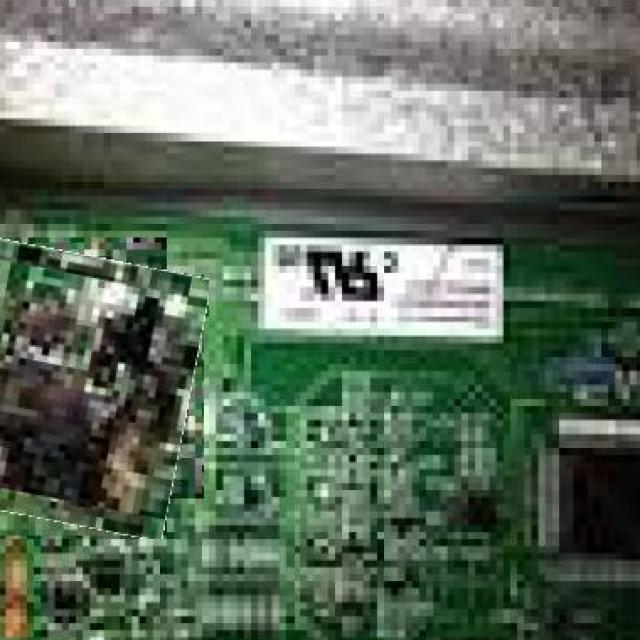Burn: (0, 244, 198, 532)
